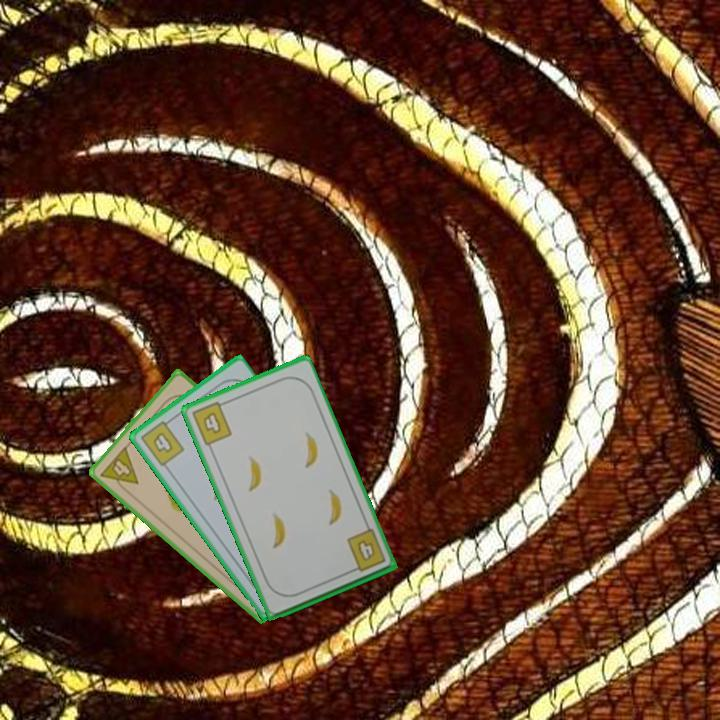4b: (136, 415, 187, 469), (188, 397, 235, 449), (343, 525, 388, 575)
4p: (97, 442, 141, 497)
